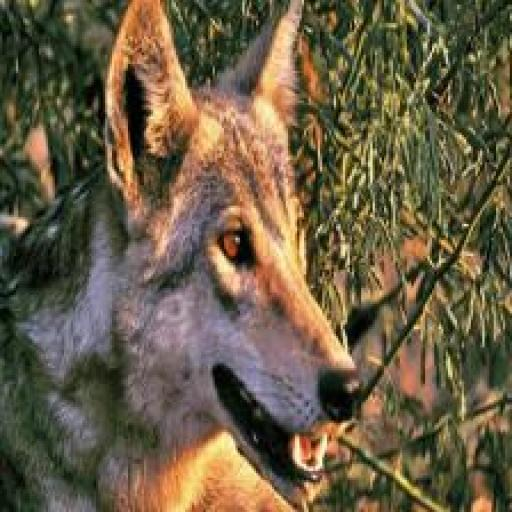wolf: (7, 0, 372, 512)
